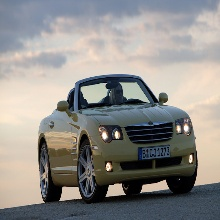no damage: (36, 73, 199, 202)
